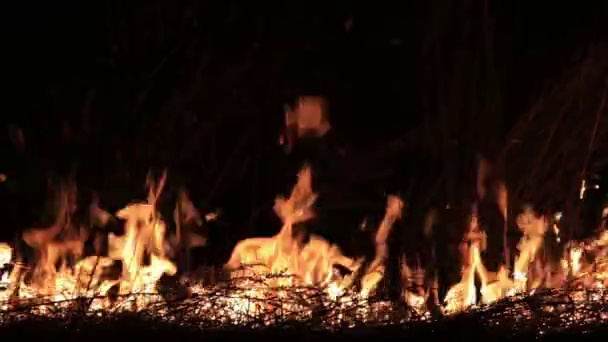fire: (221, 166, 350, 319), (35, 206, 177, 313), (442, 223, 509, 313), (359, 196, 400, 314), (561, 227, 608, 293), (514, 211, 544, 291), (1, 244, 33, 302)
